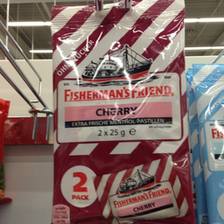candy: (51, 3, 187, 221), (187, 61, 224, 219)
